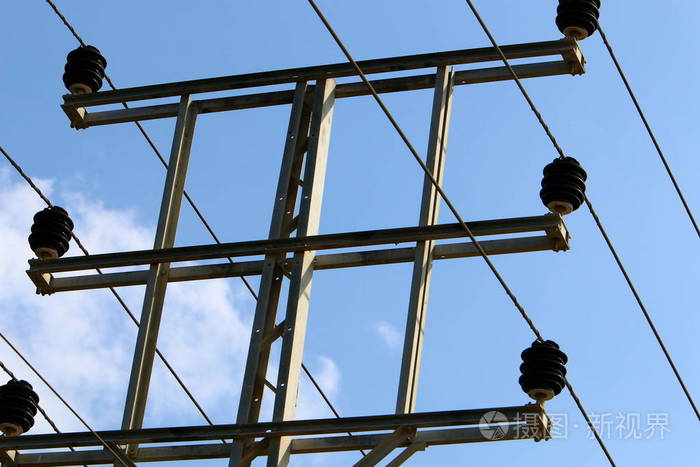insulator: (519, 342, 568, 400), (541, 156, 588, 214), (28, 207, 73, 257), (61, 48, 107, 91), (1, 385, 38, 429), (555, 1, 600, 32)
